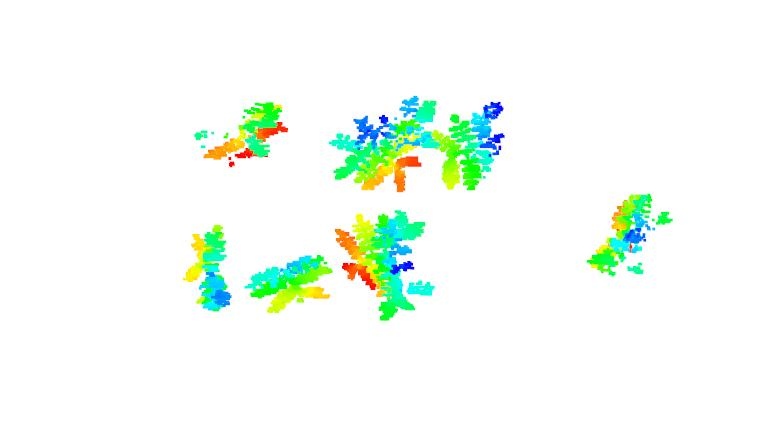chickpea: (335, 204, 440, 322), (328, 89, 439, 191), (585, 190, 679, 279), (432, 95, 509, 193), (193, 96, 288, 167), (243, 251, 337, 314), (182, 221, 232, 313)
